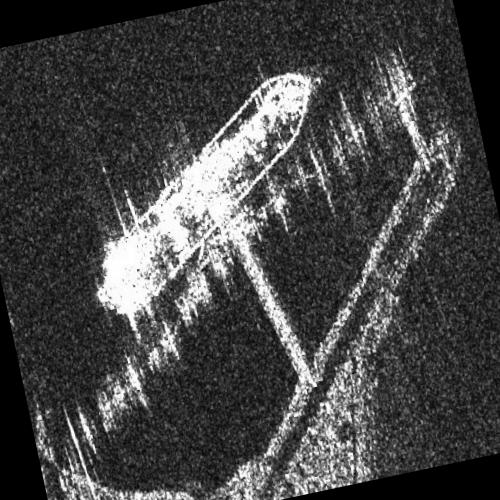ship: (94, 69, 312, 317)
